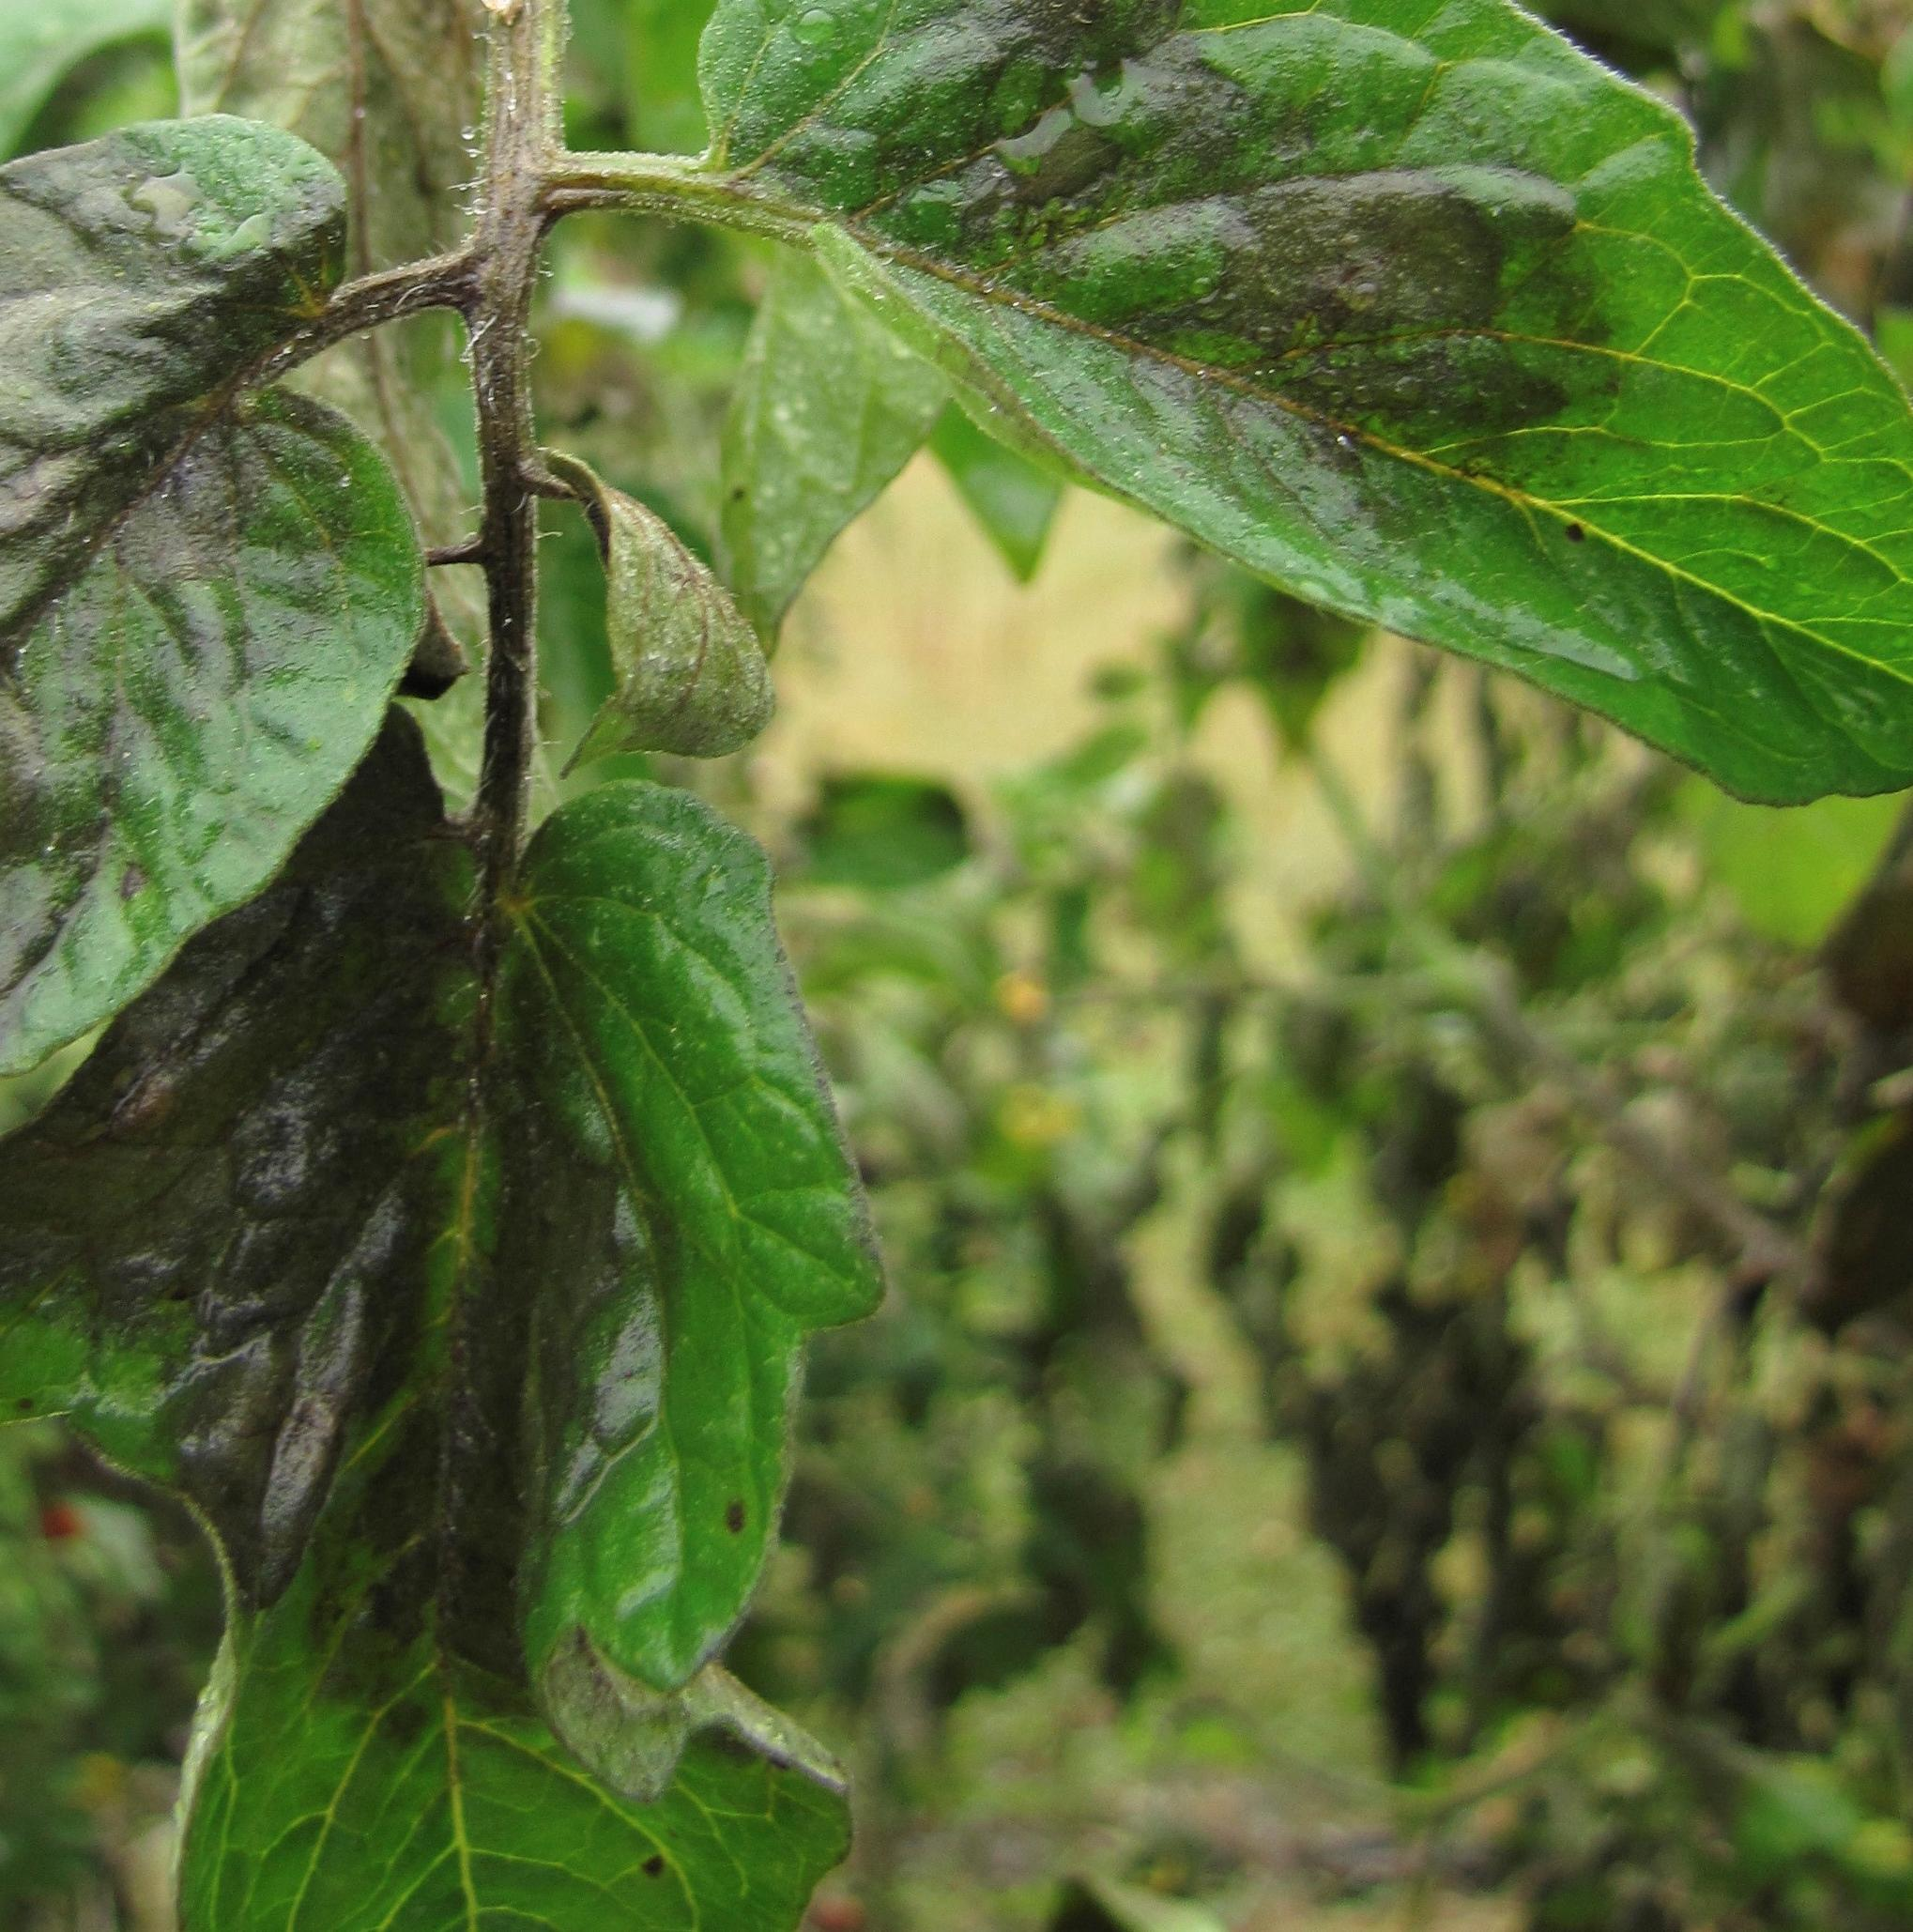Tomato leaf late blight: (0, 734, 928, 1932), (690, 0, 1913, 825), (0, 130, 457, 1443)
